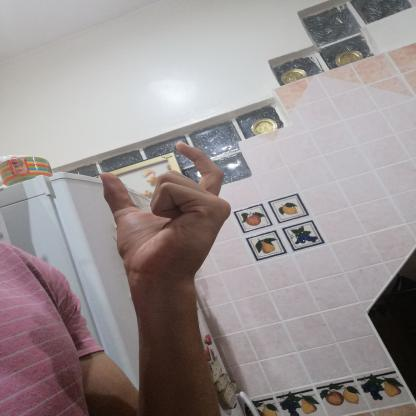NOON: (85, 132, 248, 293)
